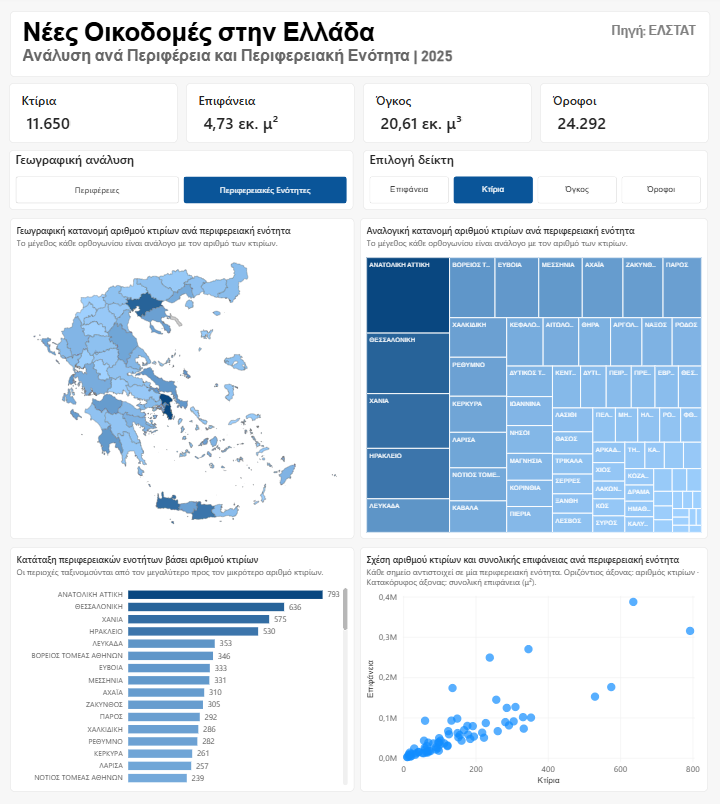

The page's visual inventory and layout, read from the dashboard file:
{"tool":"powerbi","page":{"name":"Page 1","canvas":[1200,1340],"ordinal":0},"visuals":[{"type":"shapeMap","fields":{"Category":["ΠΙΝ1.Περιφέρεια και Περιφερειακή Ενότητα"]},"box":[16.7,364.4,574,535],"z":0},{"type":"clusteredBarChart","fields":{"Category":["ΠΙΝ1.Greek Location Name"],"Y":["Metric Selector.Dynamic Map Value"]},"box":[16,911.5,574,408],"z":1000},{"type":"treemap","fields":{"Group":["ΠΙΝ1.Greek Location Name"],"Values":["Metric Selector.Dynamic Map Value"]},"box":[600,364,580,535],"z":2000},{"type":"scatterChart","fields":{"Category":["ΠΙΝ1.Greek Location Name"],"X":["Sum(ΠΙΝ1.Αριθμός)"],"Y":["Sum(ΠΙΝ1.Επιφάνεια)"]},"box":[600,911,580,408.3],"z":3000},{"type":"bookmarkNavigator","title":"Γεωγραφική ανάλυση","box":[15,250,574,100],"z":8000},{"type":"advancedSlicerVisual","title":"Επιλογή δείκτη","fields":{"Values":["Metric Selector.Metric"]},"box":[605,250,575,100],"z":9000},{"type":"textbox","title":"Title","box":[16.4,18.2,1167.3,110],"z":10000},{"type":"kpi","title":"Κτίρια","fields":{"Indicator":["ΠΙΝ1.Total Buildings KPI"],"TrendLine":["ΠΙΝ1.Περιφέρεια και Περιφερειακή Ενότητα"]},"box":[14.3,138.6,281.4,100],"z":11000},{"type":"kpi","title":"Επιφάνεια","fields":{"Indicator":["ΠΙΝ1.Total Surface KPI"],"TrendLine":["ΠΙΝ1.Περιφέρεια και Περιφερειακή Ενότητα"]},"box":[309.5,138.5,281.4,100],"z":12000},{"type":"kpi","title":"Όγκος","fields":{"Indicator":["ΠΙΝ1.Total Volume KPI"],"TrendLine":["ΠΙΝ1.Περιφέρεια και Περιφερειακή Ενότητα"]},"box":[604.8,138.5,281.4,100],"z":13000},{"type":"kpi","title":"Όροφοι","fields":{"Indicator":["ΠΙΝ1.Total Floors KPI"],"TrendLine":["ΠΙΝ1.Περιφέρεια και Περιφερειακή Ενότητα"]},"box":[900,138.5,281.4,100],"z":14000},{"type":"textbox","box":[971.7,40,188.3,95],"z":15000}]}

Visuals, with their boxes in screenshot pixels (x1, y1, x2, y2), scaled from the page's 1200x1340 canvas onto the 720x804 screenshot:
shapeMap - ΠΙΝ1.Περιφέρεια και Περιφερειακή Ενότητα: (10, 219, 354, 540)
clusteredBarChart - ΠΙΝ1.Greek Location Name x Metric Selector.Dynamic Map Value: (10, 547, 354, 792)
treemap - ΠΙΝ1.Greek Location Name x Metric Selector.Dynamic Map Value: (360, 218, 708, 539)
scatterChart - ΠΙΝ1.Greek Location Name x Sum(ΠΙΝ1.Αριθμός): (360, 547, 708, 792)
"Γεωγραφική ανάλυση" bookmarkNavigator: (9, 150, 353, 210)
"Επιλογή δείκτη" advancedSlicerVisual: (363, 150, 708, 210)
"Title" textbox: (10, 11, 710, 77)
"Κτίρια" kpi: (9, 83, 177, 143)
"Επιφάνεια" kpi: (186, 83, 355, 143)
"Όγκος" kpi: (363, 83, 532, 143)
"Όροφοι" kpi: (540, 83, 709, 143)
textbox: (583, 24, 696, 81)
